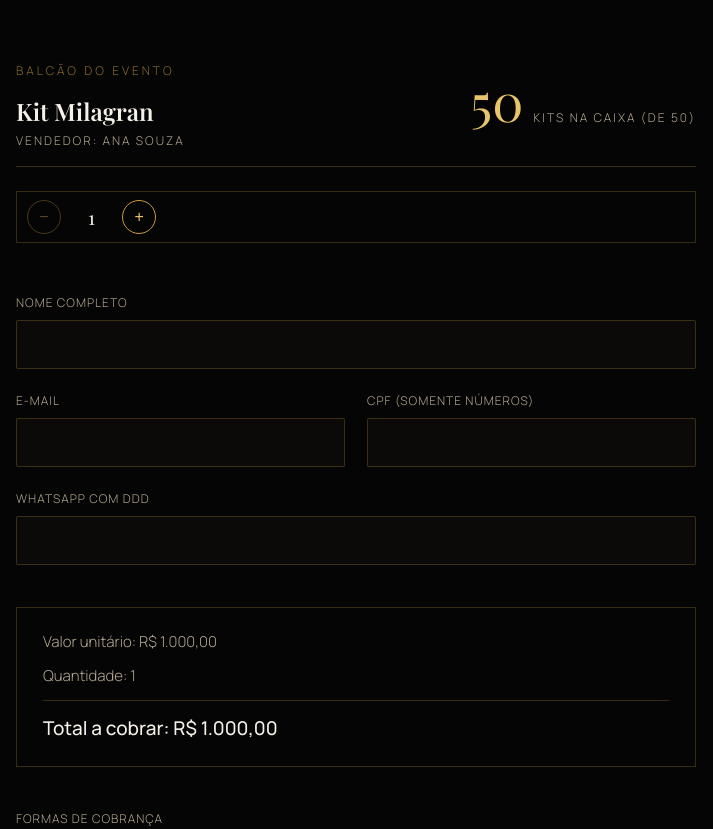
Test: VendaPresencial › 402 com vendaRegistrada NAO mostra VENDA APROVADA e manda nao entregar o kit
Type "Maria Aparecida" into the field labelled "Nome completo" at point(356, 344), box x1=16 y1=320 x2=696 y2=369
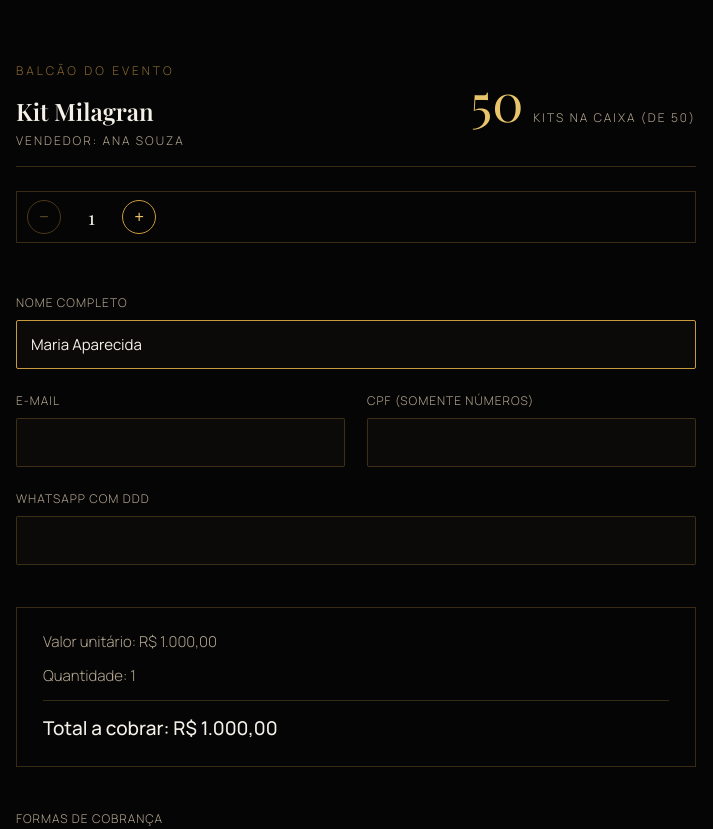
Type "maria.balcao@exemplo.com" into the field labelled "E-mail" at point(180, 443), box x1=16 y1=418 x2=345 y2=467
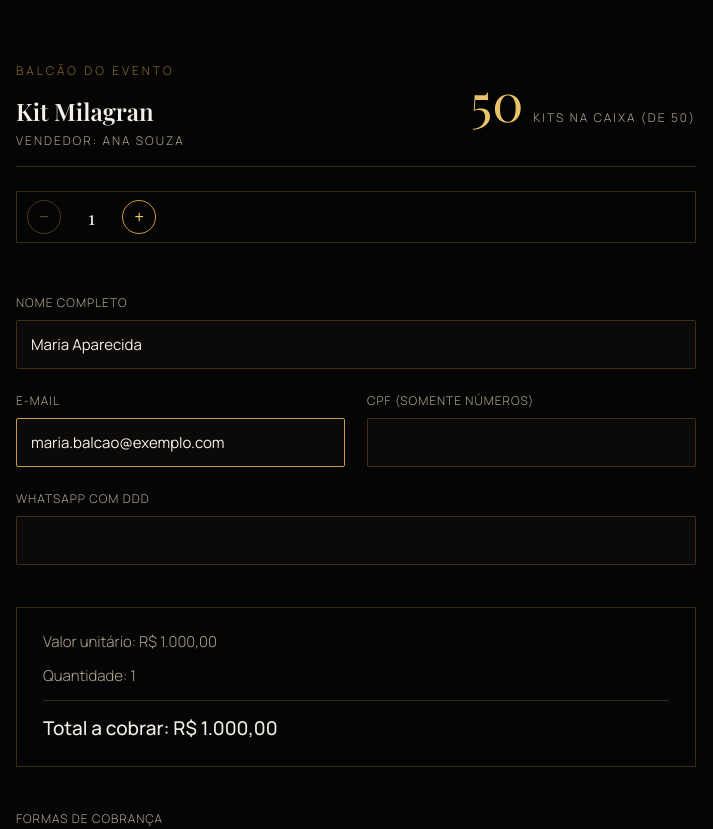
Type "12345678901" into the field labelled "CPF (somente números)" at point(532, 443), box x1=367 y1=418 x2=696 y2=467
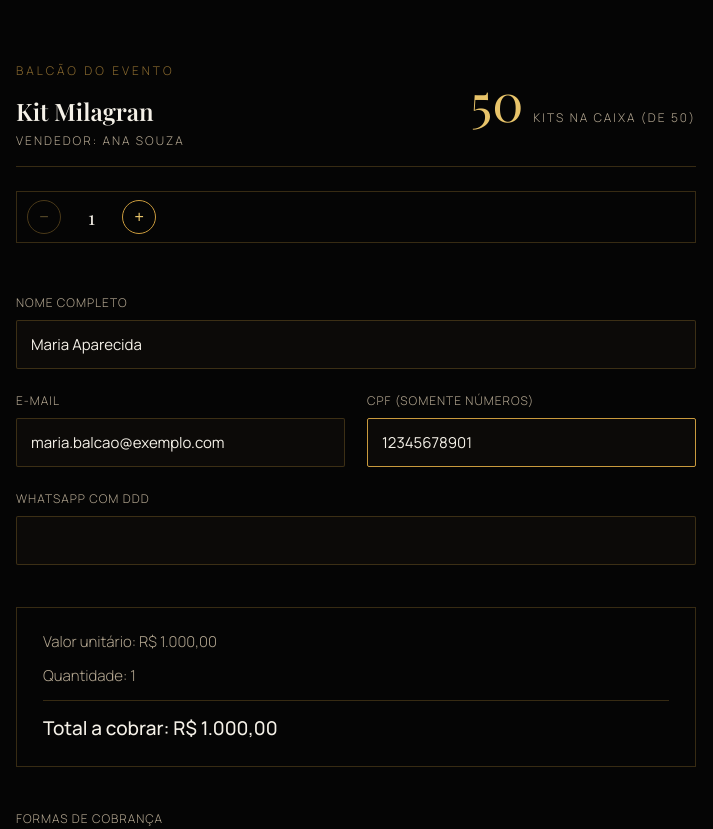
Type "11988887777" into the field labelled "WhatsApp com DDD" at point(356, 541), box x1=16 y1=516 x2=696 y2=565
(page scrolled)
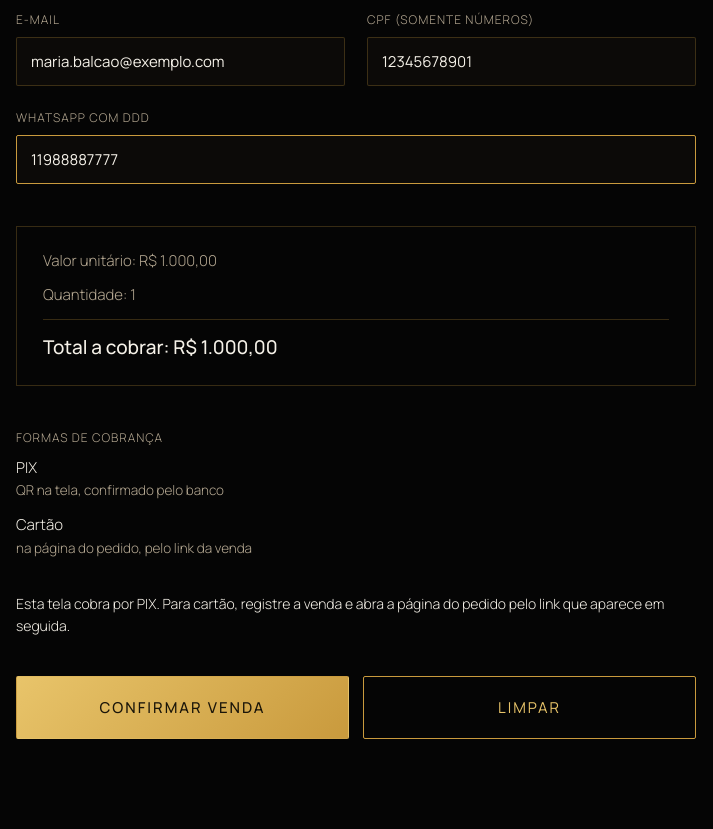
Click the button "Confirmar venda" at point(182, 707), box x1=16 y1=676 x2=349 y2=739
(page scrolled)
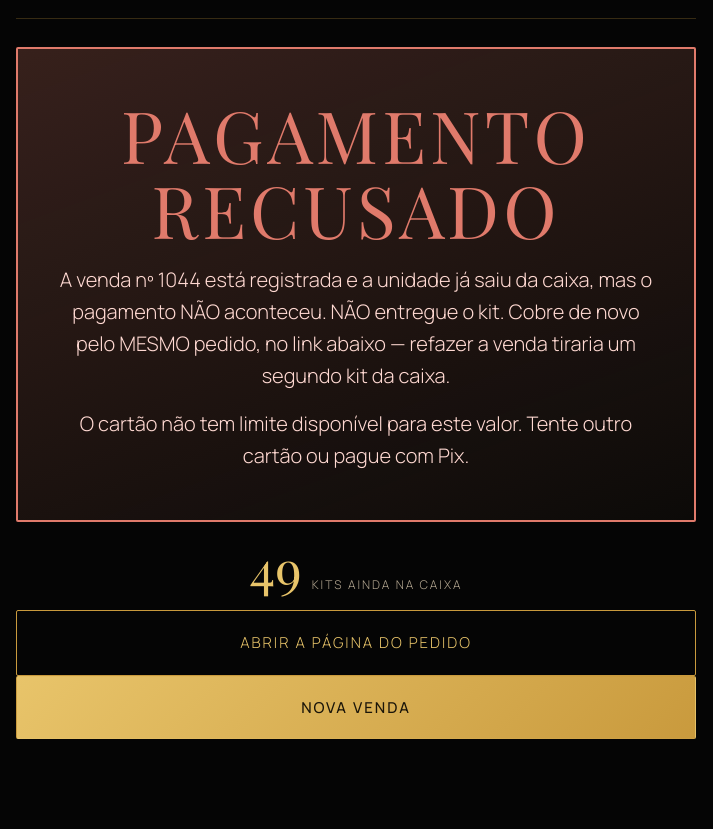
Expected: the element with test id "desfecho" shows "não entregue o kit", x1=60 y1=266 x2=652 y2=389
Expected: the element with test id "desfecho" shows "está registrada", x1=60 y1=266 x2=652 y2=389
Expected: the element with test id "desfecho" shows "1044", x1=60 y1=266 x2=652 y2=389
